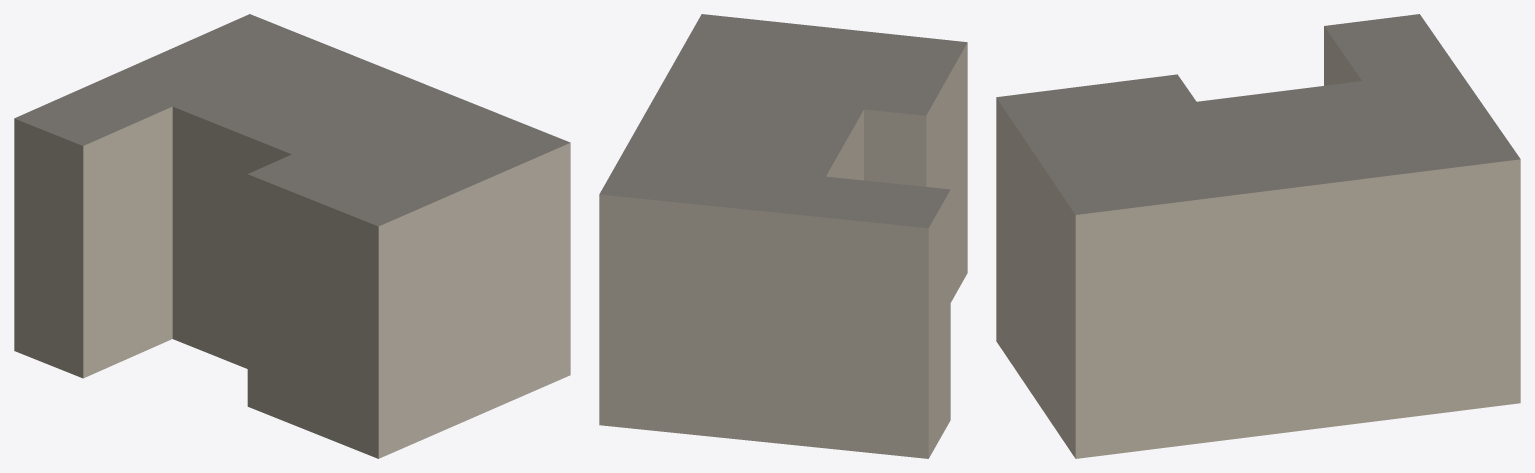
3 renders of one model, left to right at view 1: azimuth 30°, elevation 25°; view 2: azimuth 150°, elevation 25°; view 3: azimuth 270°, elevation 25°, orthographic. The views are drawn at different scales.
Parts seen in each view (by area): view 1: HP-w1267682866; view 2: HP-w1267682866; view 3: HP-w1267682866.
Part boxes in pixels (x1,y1,x2,y2): HP-w1267682866: [14, 14, 570, 458]; HP-w1267682866: [599, 14, 967, 458]; HP-w1267682866: [996, 14, 1520, 458].
Size of the model in its own units: 31.82 by 18 by 35.08.
